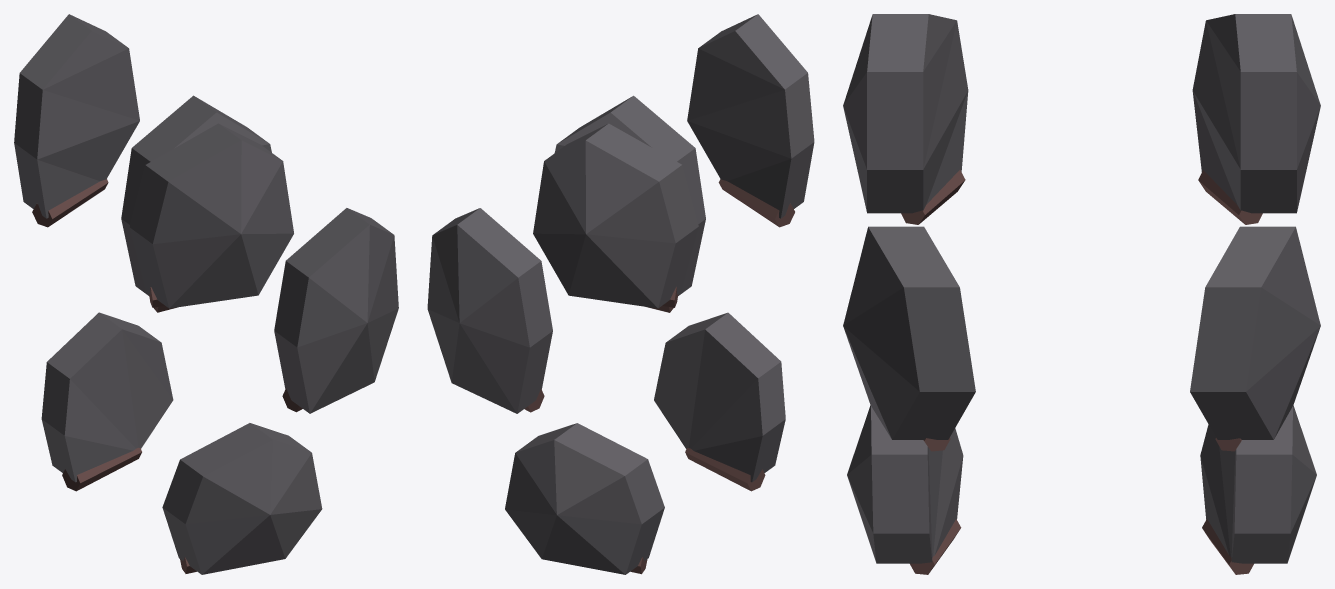
Rendered from implants_thin_plating.obj.
The picture shows the model from 3 angles, left to right: view 1: azimuth 30°, elevation 25°; view 2: azimuth 150°, elevation 25°; view 3: azimuth 270°, elevation 25°; orthographic projection. The views are drawn at different scales.
Parts seen in each view (by area): view 1: implants_thin_plating; view 2: implants_thin_plating; view 3: implants_thin_plating.
Part boxes in pixels (box(x1,y1,x2,y2)): implants_thin_plating: box(14, 14, 398, 574); implants_thin_plating: box(427, 14, 814, 574); implants_thin_plating: box(843, 14, 1320, 574).
Size of the model in its own units: 0.2614 by 0.4474 by 0.3578.
